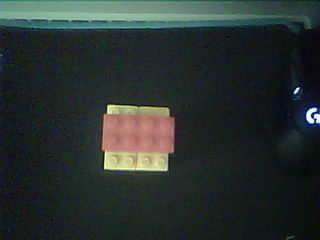lego: (102, 104, 175, 174)
